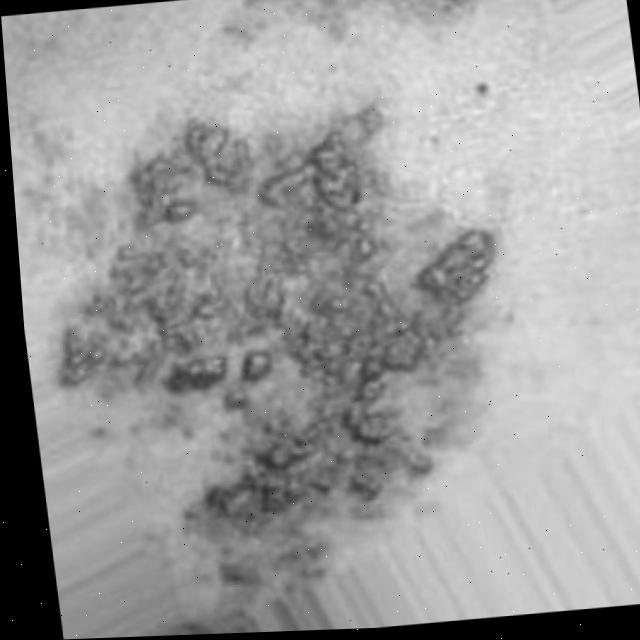Shingles: (23, 102, 528, 544), (267, 0, 502, 30)
